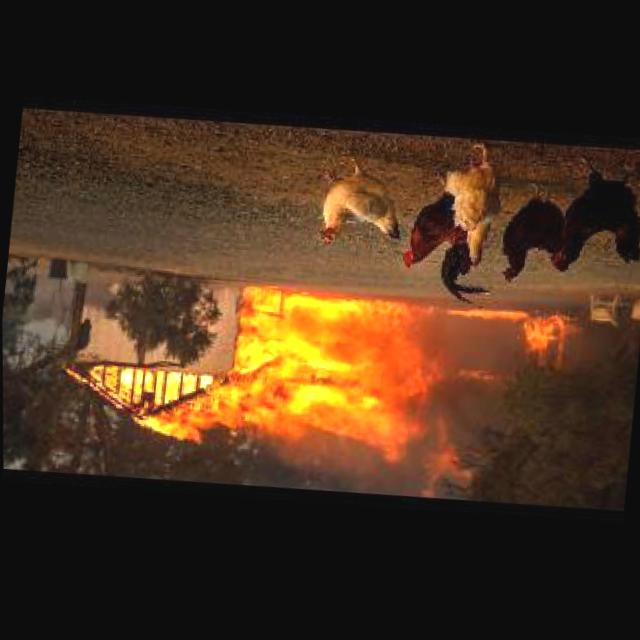Fire: (39, 261, 440, 500), (435, 302, 578, 378)
Smoke: (152, 272, 481, 470)
